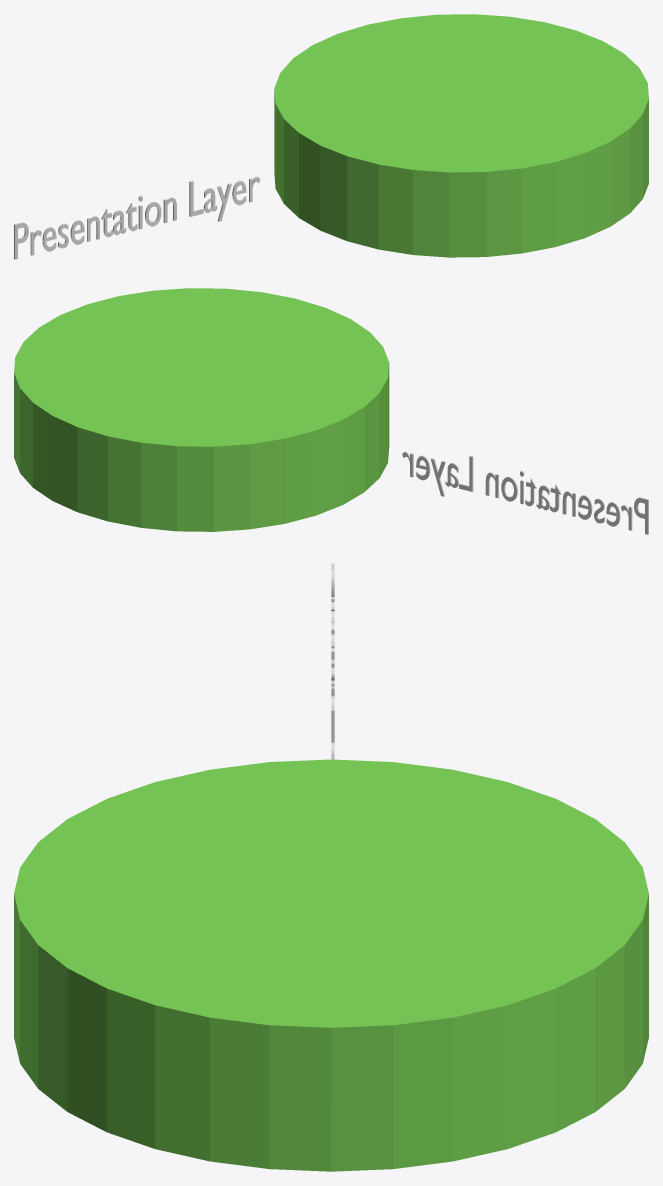
The picture shows the model from 3 angles, top to bottom: view 1: azimuth 30°, elevation 25°; view 2: azimuth 150°, elevation 25°; view 3: azimuth 270°, elevation 25°; orthographic projection. The views are drawn at different scales.
Visible parts, largest first — view 1: Silinder.005, Teks.005; view 2: Silinder.005, Teks.005; view 3: Silinder.005.
Part boxes in pixels (x1,y1,x2,y2): Silinder.005: [274, 14, 648, 257]; Teks.005: [14, 176, 260, 259]; Silinder.005: [14, 288, 389, 531]; Teks.005: [402, 451, 648, 534]; Silinder.005: [14, 759, 648, 1171].
Bounding box in the file's own units: 375 × 50 × 200.
